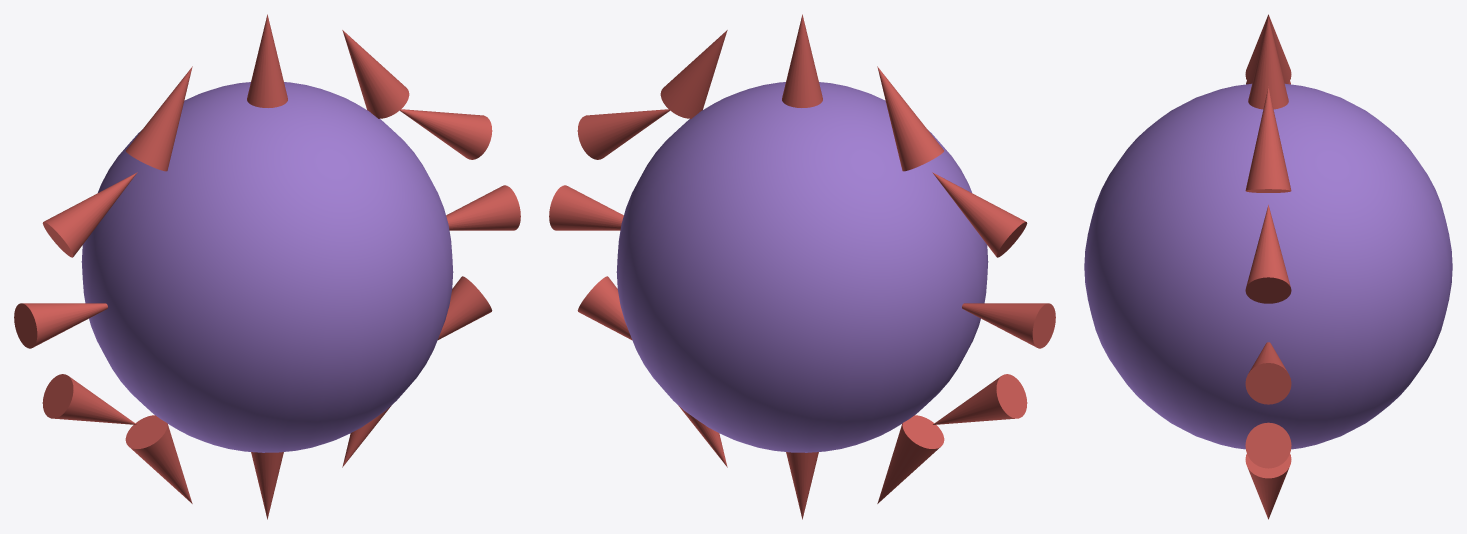
Rendered from biology-health-pathogen.glb.
3 views of the same model, side by side, from view 1: azimuth 30°, elevation 25°; view 2: azimuth 150°, elevation 25°; view 3: azimuth 270°, elevation 25° (orthographic).
Visible parts, largest first — view 1: pathogen-body, pathogen-surface-spike-5, pathogen-surface-spike-6, pathogen-surface-spike-4, pathogen-surface-spike-7, pathogen-surface-spike-1, pathogen-surface-spike-2, pathogen-surface-spike-8, pathogen-surface-spike-0, pathogen-surface-spike-3, pathogen-surface-spike-11, pathogen-surface-spike-9 (+1 smaller); view 2: pathogen-body, pathogen-surface-spike-5, pathogen-surface-spike-6, pathogen-surface-spike-4, pathogen-surface-spike-7, pathogen-surface-spike-1, pathogen-surface-spike-2, pathogen-surface-spike-8, pathogen-surface-spike-0, pathogen-surface-spike-3, pathogen-surface-spike-11, pathogen-surface-spike-9 (+1 smaller); view 3: pathogen-body, pathogen-surface-spike-2, pathogen-surface-spike-1, pathogen-surface-spike-3, pathogen-surface-spike-0, pathogen-surface-spike-11, pathogen-surface-spike-10, pathogen-surface-spike-4.
Part boxes in pixels (x1,y1,x2,y2): pathogen-body: (81, 82, 453, 452); pathogen-surface-spike-5: (42, 172, 137, 257); pathogen-surface-spike-6: (14, 303, 107, 348); pathogen-surface-spike-4: (126, 66, 192, 171); pathogen-surface-spike-7: (42, 374, 136, 424); pathogen-surface-spike-1: (400, 109, 492, 159); pathogen-surface-spike-2: (342, 30, 409, 118); pathogen-surface-spike-8: (125, 415, 192, 503); pathogen-surface-spike-0: (446, 185, 520, 230); pathogen-surface-spike-3: (247, 14, 287, 107); pathogen-surface-spike-11: (438, 276, 492, 339); pathogen-surface-spike-9: (251, 452, 283, 519); pathogen-body: (616, 82, 988, 452); pathogen-surface-spike-5: (932, 172, 1027, 257); pathogen-surface-spike-6: (962, 303, 1055, 348); pathogen-surface-spike-4: (877, 66, 943, 171); pathogen-surface-spike-7: (933, 374, 1027, 424); pathogen-surface-spike-1: (577, 109, 669, 159); pathogen-surface-spike-2: (660, 30, 727, 118); pathogen-surface-spike-8: (877, 415, 944, 503); pathogen-surface-spike-0: (549, 185, 623, 230); pathogen-surface-spike-3: (782, 14, 822, 107); pathogen-surface-spike-11: (577, 276, 631, 339); pathogen-surface-spike-9: (786, 452, 818, 519); pathogen-body: (1084, 83, 1452, 449); pathogen-surface-spike-2: (1245, 86, 1291, 192); pathogen-surface-spike-1: (1245, 204, 1291, 303); pathogen-surface-spike-3: (1248, 17, 1288, 109); pathogen-surface-spike-0: (1245, 342, 1291, 404); pathogen-surface-spike-11: (1245, 422, 1291, 468); pathogen-surface-spike-10: (1245, 454, 1291, 519); pathogen-surface-spike-4: (1245, 14, 1291, 83).
Size of what is drawn, in the model's own units: 0.84 by 0.84 by 0.56.
